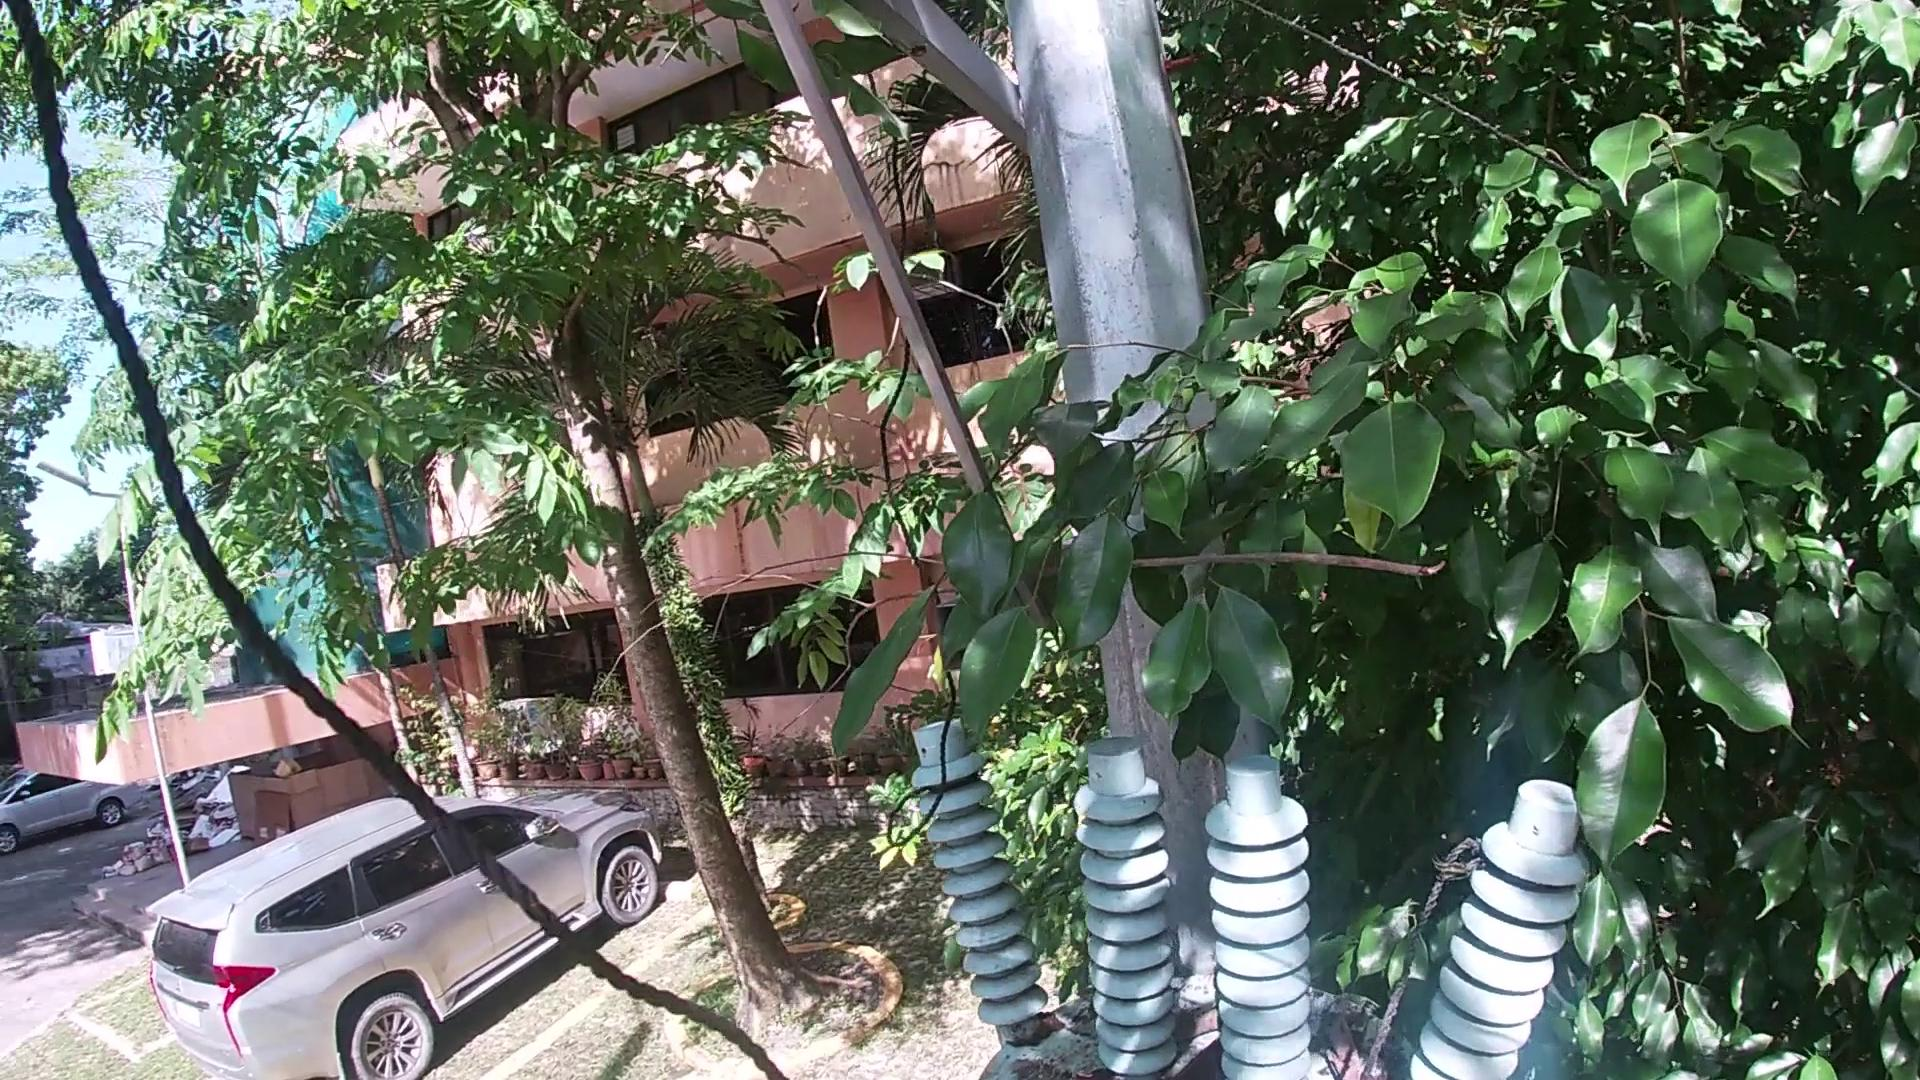mahogany fruit: (1160, 1046, 1221, 1080)
tree branch: (521, 539, 1456, 872), (1313, 1013, 1375, 1080), (1164, 1004, 1222, 1044)
